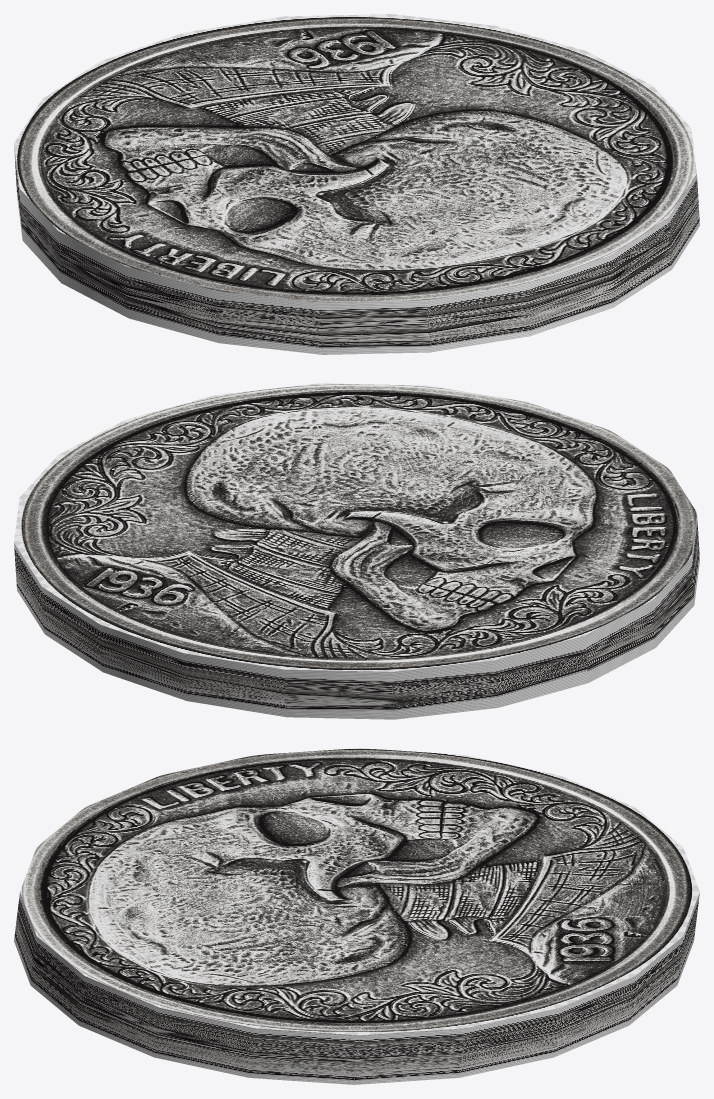
The model's file is CoinFBX.fbx.
3 renders of one model, top to bottom at view 1: azimuth 30°, elevation 25°; view 2: azimuth 150°, elevation 25°; view 3: azimuth 270°, elevation 25°, orthographic.
Visible parts, largest first — view 1: pCylinder2; view 2: pCylinder2; view 3: pCylinder2.
Boxes of the visible parts, left/top/right/bottom form: pCylinder2: left=14, top=14, right=699, bottom=354; pCylinder2: left=14, top=383, right=699, bottom=719; pCylinder2: left=14, top=748, right=699, bottom=1084.
Size of the model in its own units: 0.2198 by 0.0177 by 0.2217.
Materials: 1 (1 with a texture image).
